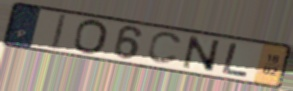6: (113, 25, 144, 60)
C: (145, 31, 185, 67)
I: (50, 13, 69, 51)
L: (220, 41, 251, 79)
N: (181, 34, 221, 74)
O: (70, 18, 109, 56)
